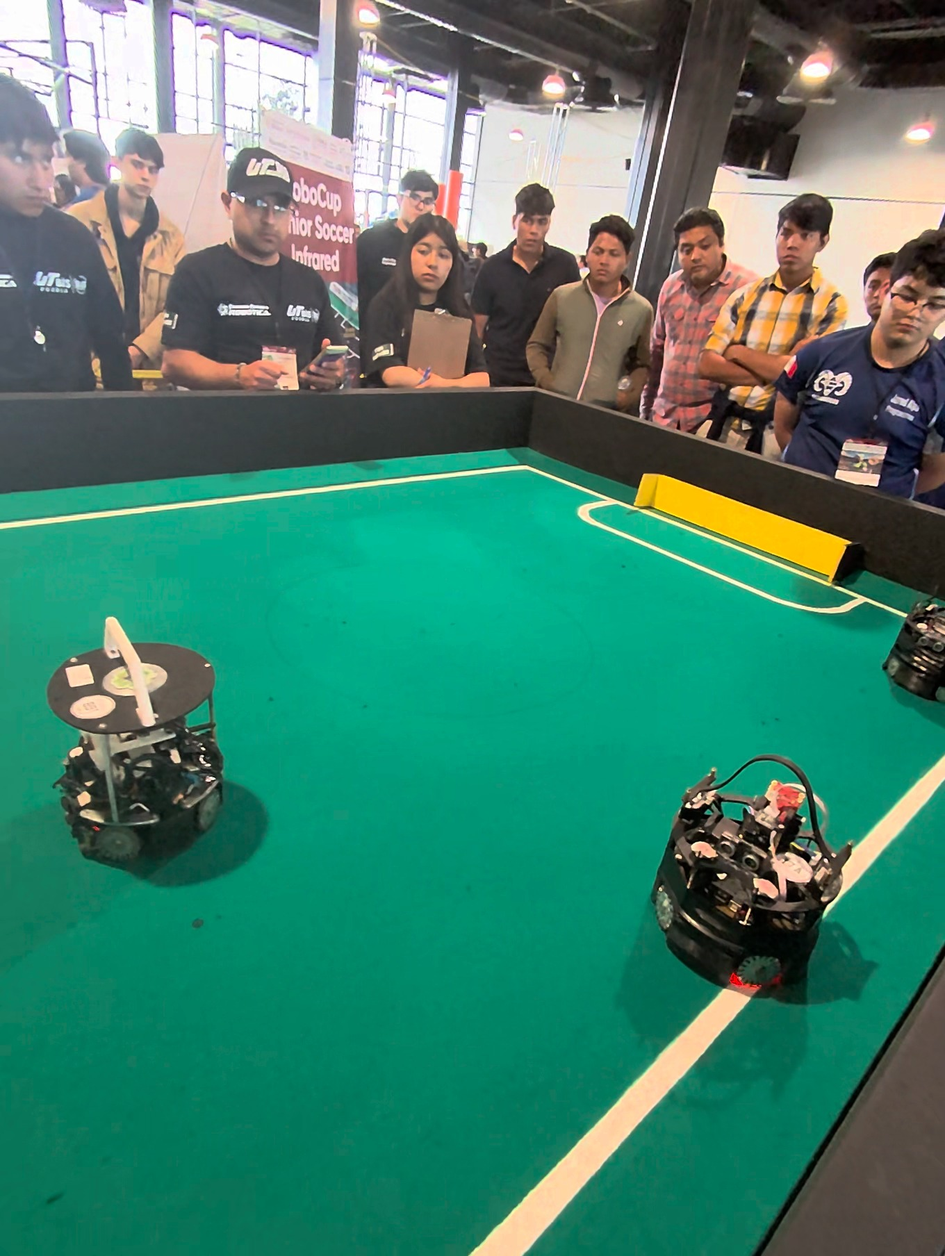Robot: (28, 600, 249, 882), (651, 738, 851, 1008), (887, 584, 945, 719)
